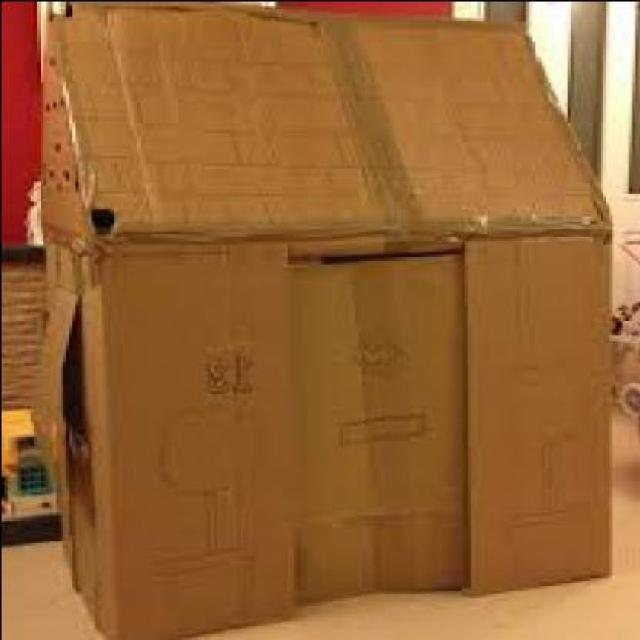CARDBOARD: (40, 1, 618, 638), (3, 253, 59, 407), (3, 407, 65, 544)
